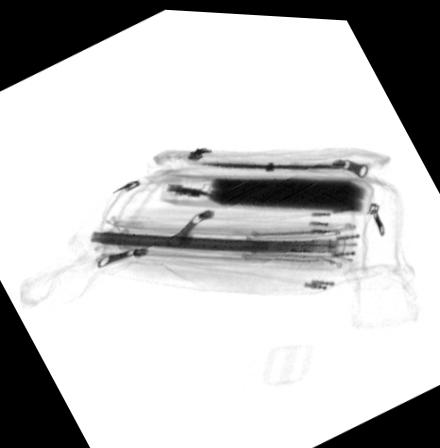Powerbank: (159, 170, 372, 207)
Scissors: (195, 155, 356, 165)
